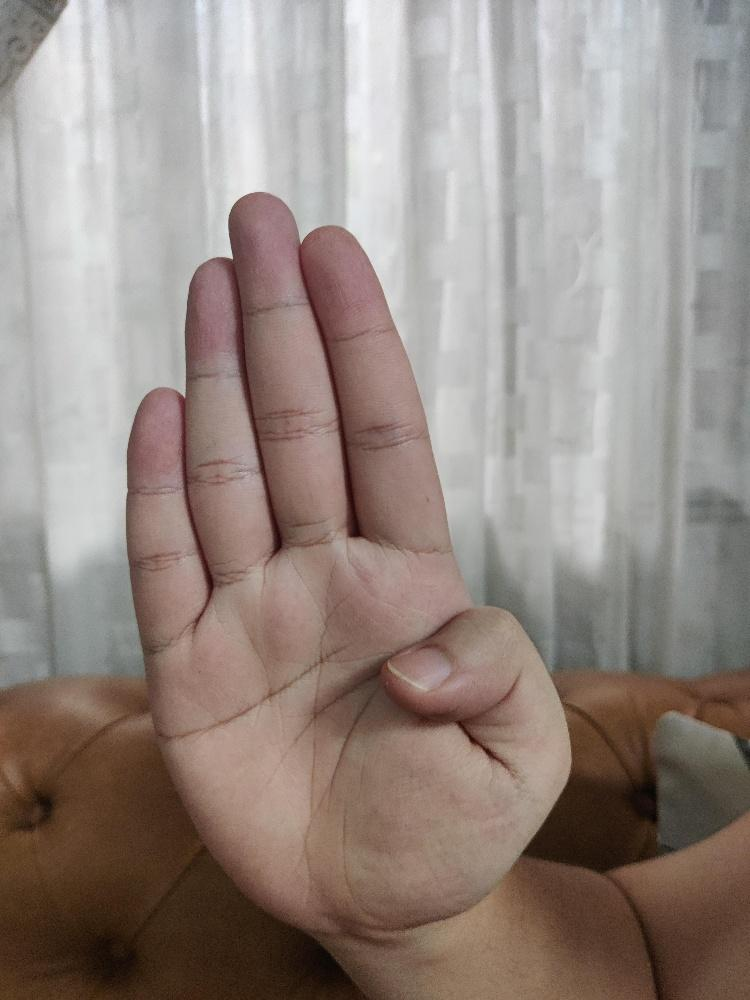b: (123, 190, 574, 935)
